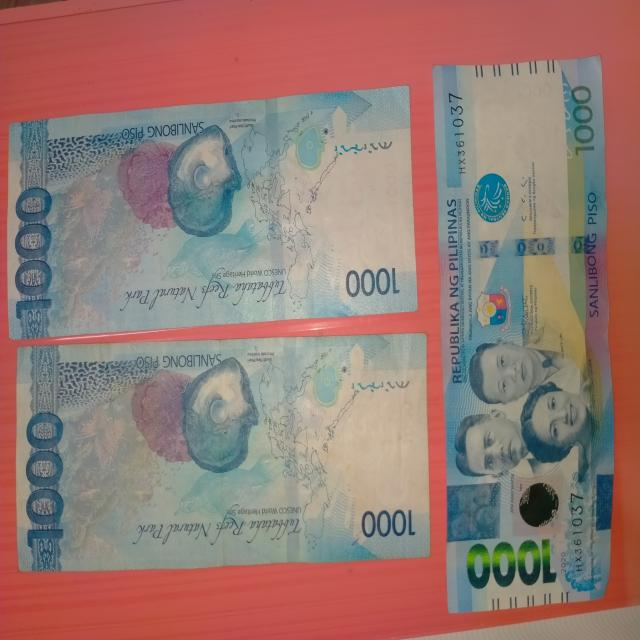concealed_value: (446, 481, 502, 541)
optically_variable_device: (514, 473, 564, 537)
see_through_mark: (555, 77, 574, 164), (345, 372, 410, 397), (328, 134, 396, 156)
value_watermark: (398, 395, 416, 449), (513, 80, 556, 102), (383, 155, 399, 210)
